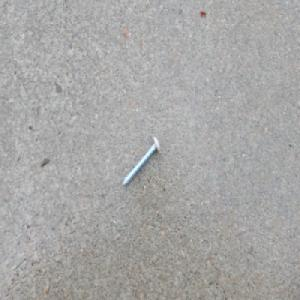Nail: (121, 134, 160, 188)
